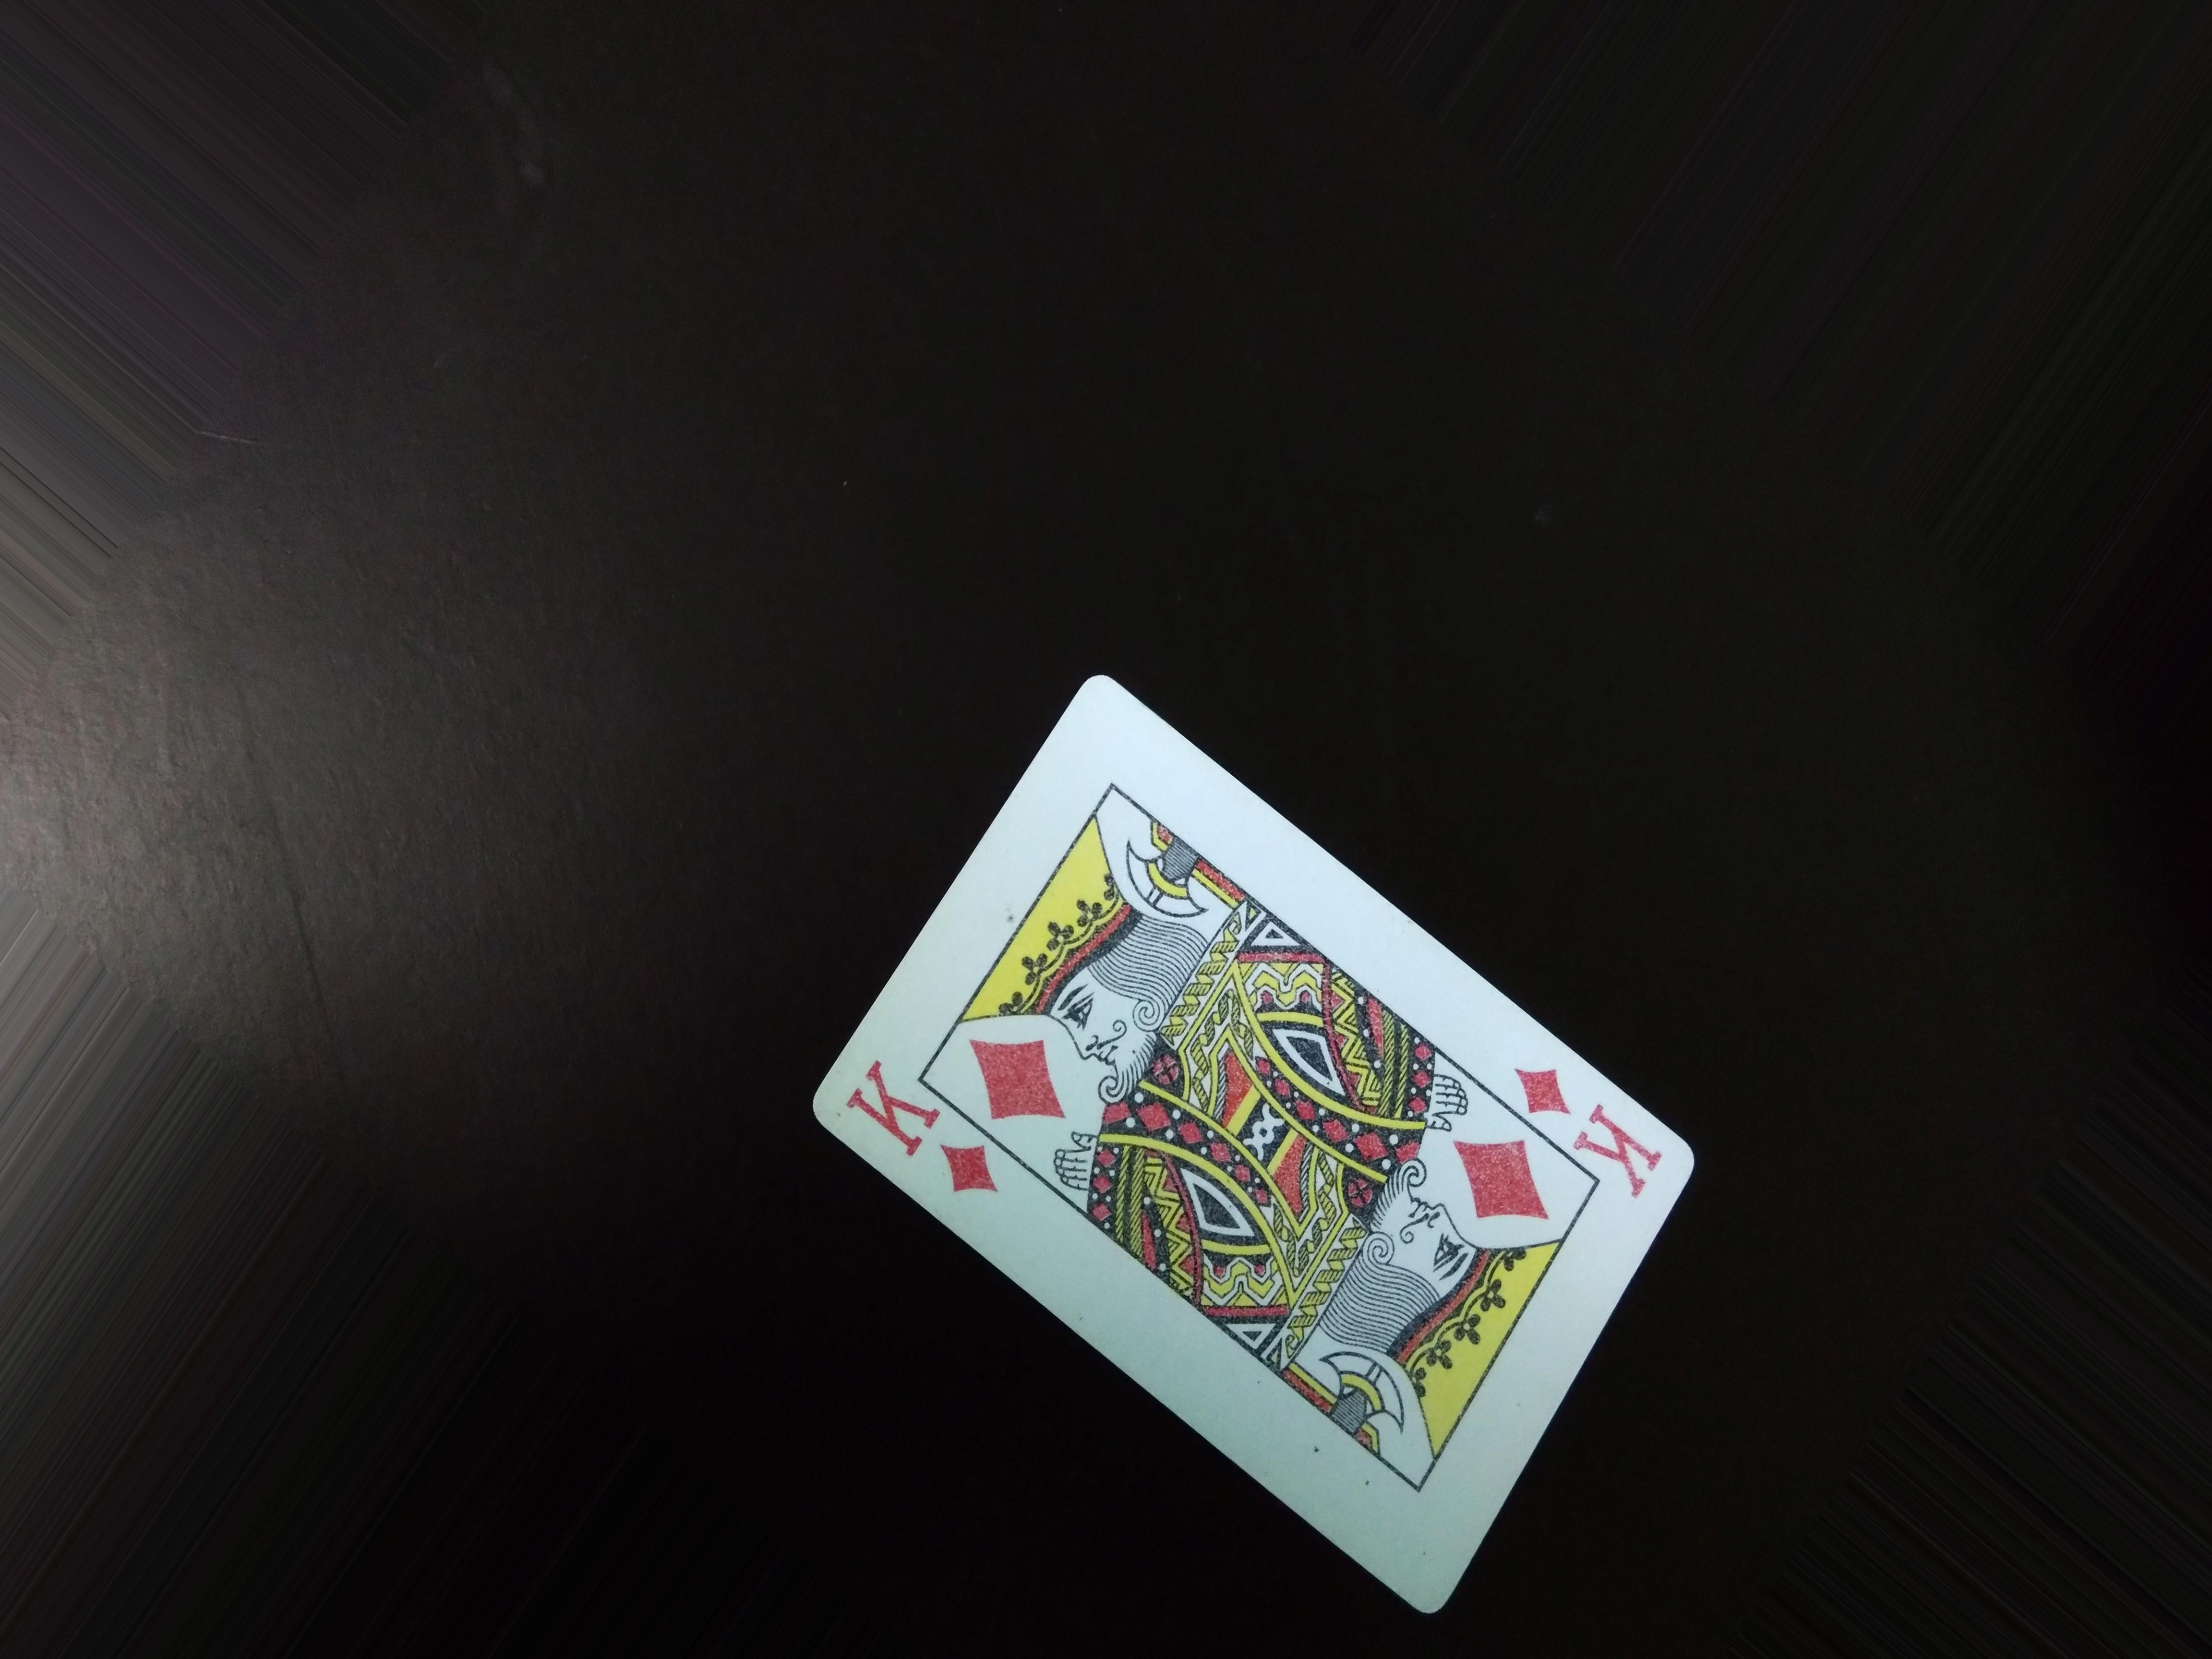KD: (834, 1053, 995, 1216)
